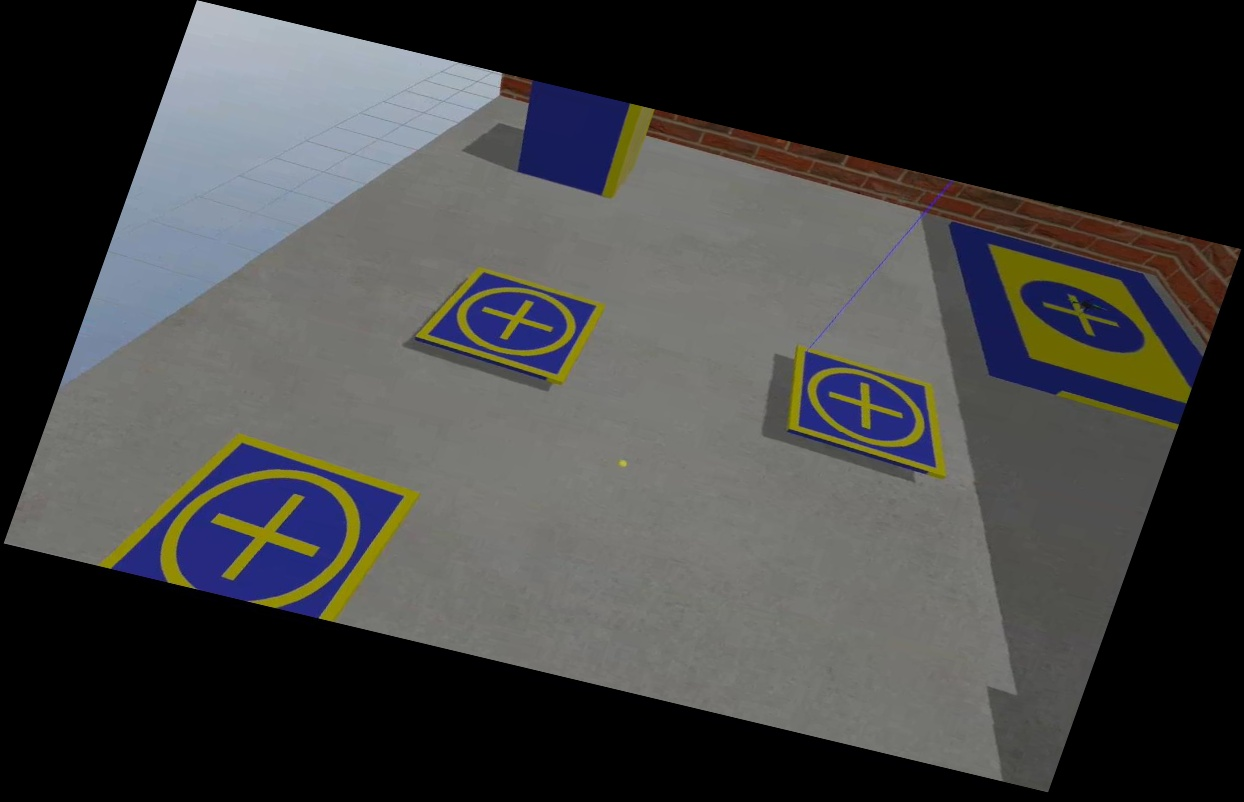large_base: (898, 218, 1231, 431)
small_base: (101, 415, 423, 630), (764, 345, 980, 484), (409, 258, 606, 389)
